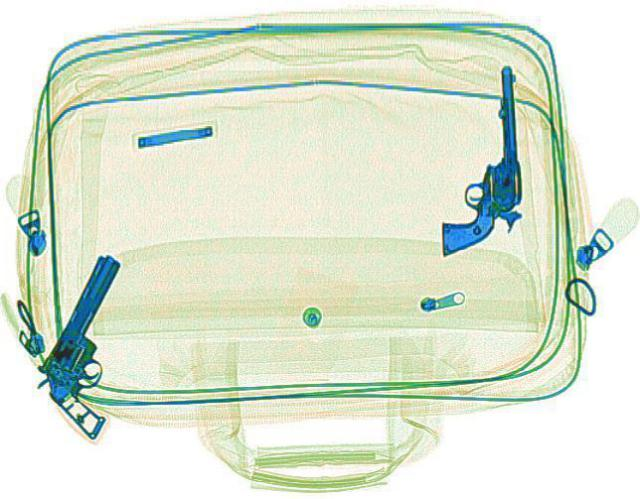Gun: (14, 250, 180, 439), (430, 63, 524, 254)
